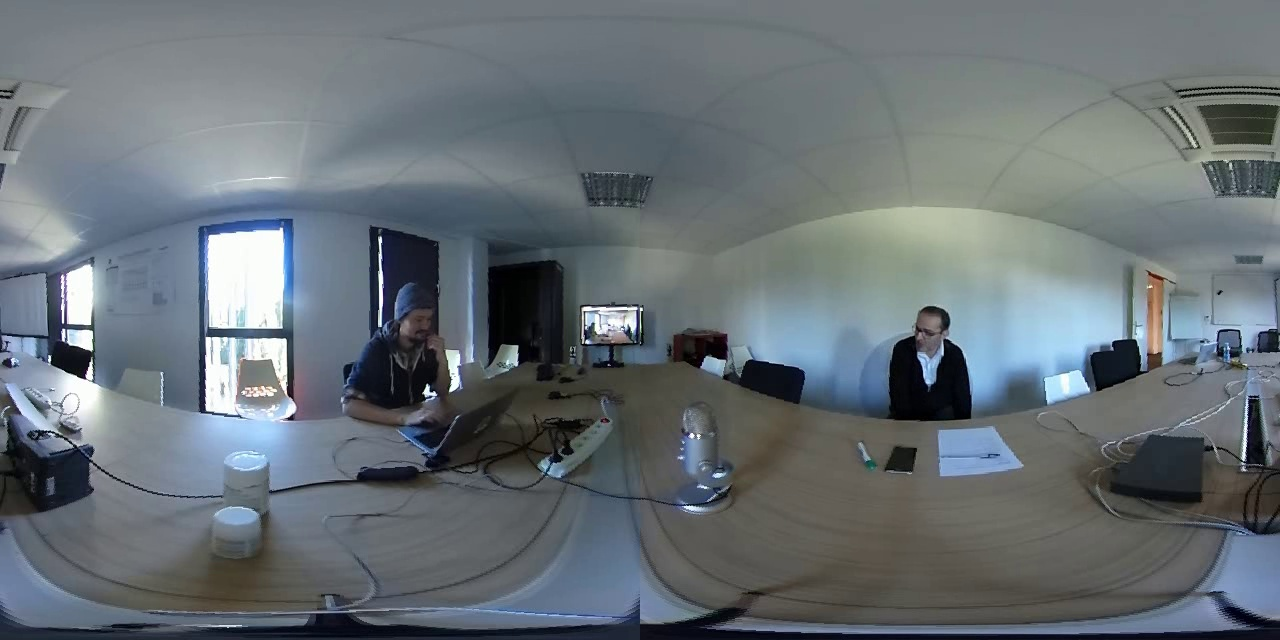person: (347, 271, 458, 416), (879, 280, 980, 434)
